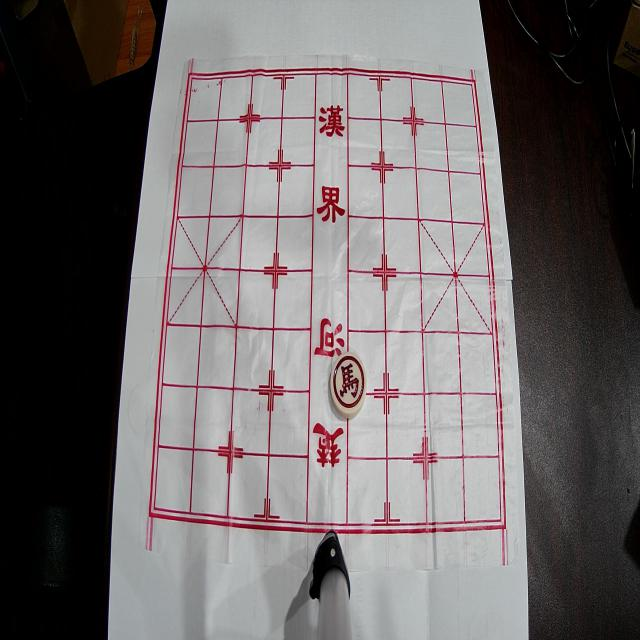red-horse: (330, 352, 367, 418)
